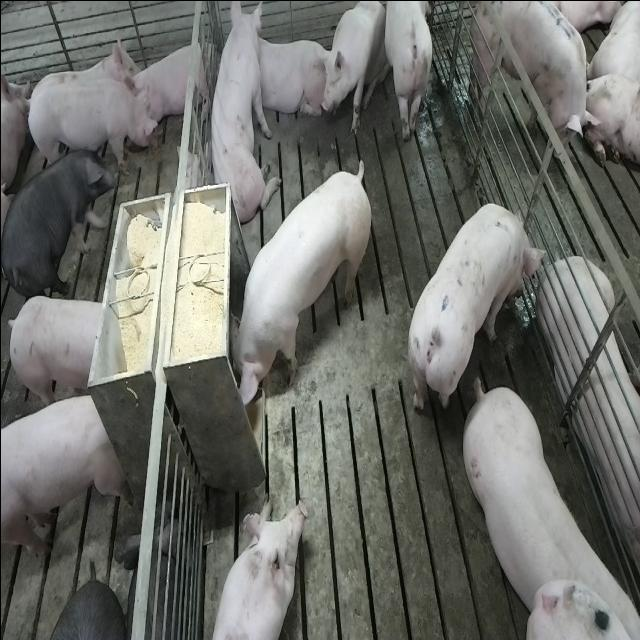Feeding: (222, 160, 368, 412)
Sitting: (202, 3, 276, 230), (320, 0, 386, 138)
Standing: (457, 372, 635, 633), (406, 202, 546, 420), (1, 386, 125, 566), (2, 140, 119, 300), (470, 1, 598, 140), (23, 73, 159, 175), (6, 290, 109, 410), (382, 2, 434, 148)
Sternal_lying: (540, 255, 640, 580), (205, 495, 308, 640), (130, 32, 212, 134), (250, 34, 328, 120)
